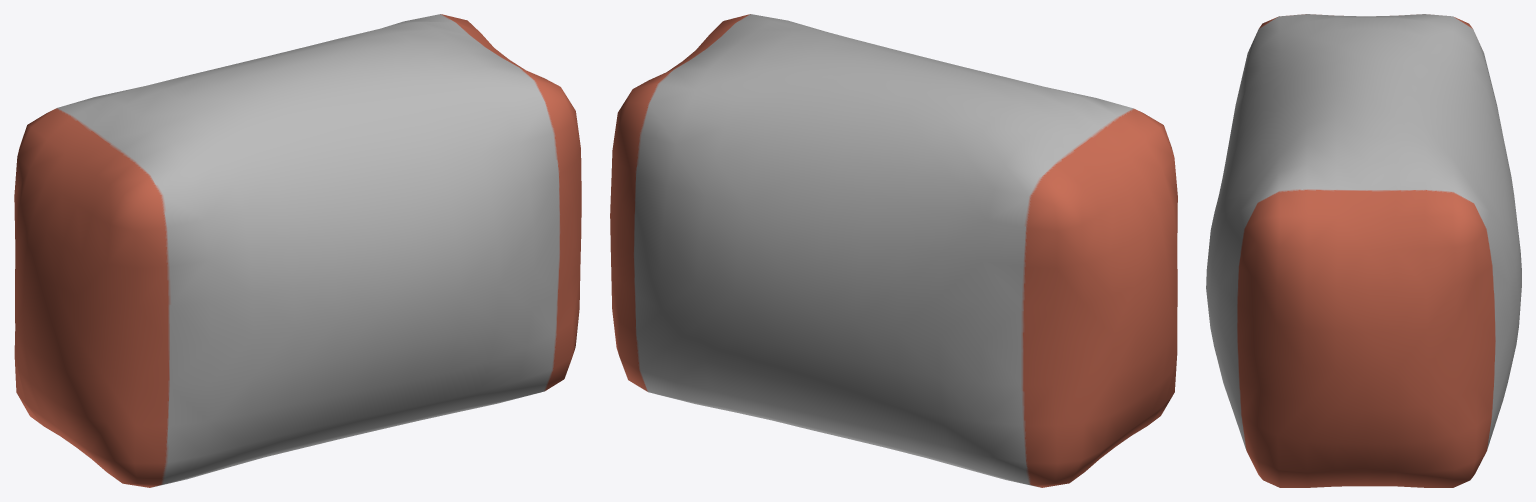
The model's file is Iris.fbx.
3 views of the same model, side by side, from view 1: azimuth 30°, elevation 25°; view 2: azimuth 150°, elevation 25°; view 3: azimuth 270°, elevation 25° (orthographic). The views are drawn at different scales.
Visible parts, largest first — view 1: Iris_S; view 2: Iris_S; view 3: Iris_S.
Part boxes in pixels (x1,y1,x2,y2): Iris_S: (14,14,581,487); Iris_S: (610,14,1177,487); Iris_S: (1206,14,1521,487).
Bounding box in the file's own units: 198 × 125 × 111.
